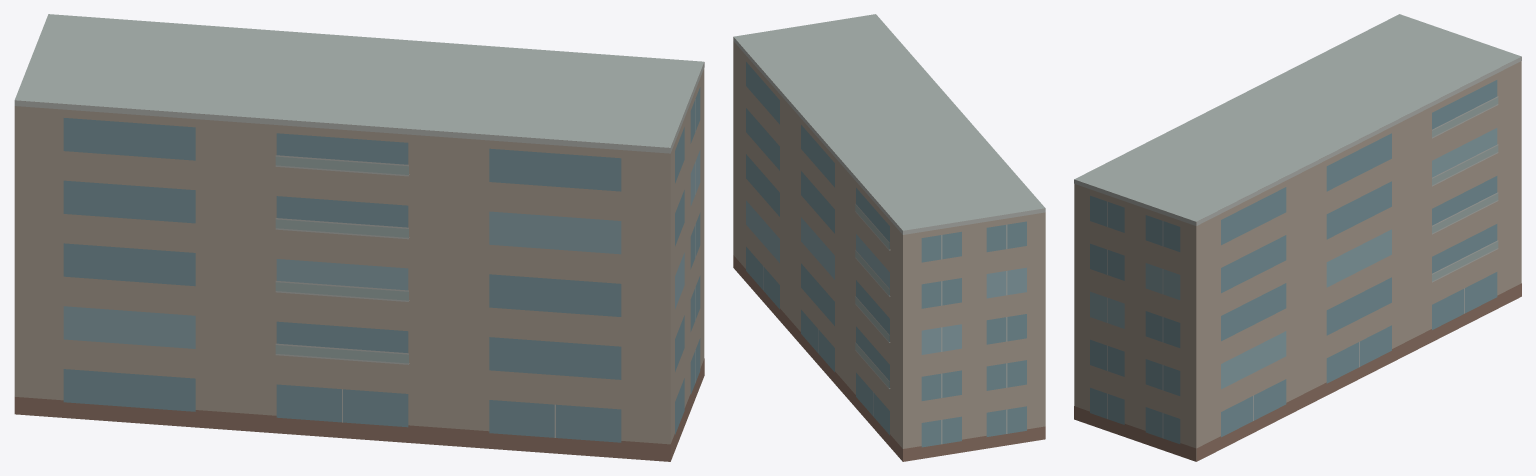
Rendered from survey-upis-32707064.glb.
The picture shows the model from 3 angles, left to right: view 1: azimuth 30°, elevation 25°; view 2: azimuth 150°, elevation 25°; view 3: azimuth 270°, elevation 25°; orthographic projection. The views are drawn at different scales.
Parts seen in each view (by area): view 1: survey-upis-32707064.tmp; view 2: survey-upis-32707064.tmp; view 3: survey-upis-32707064.tmp.
Part boxes in pixels (<box>): survey-upis-32707064.tmp: <box>14,14,704,461</box>; survey-upis-32707064.tmp: <box>733,14,1045,461</box>; survey-upis-32707064.tmp: <box>1074,14,1521,461</box>.
Size of the model in its own units: 24.98 by 13.45 by 22.74.
